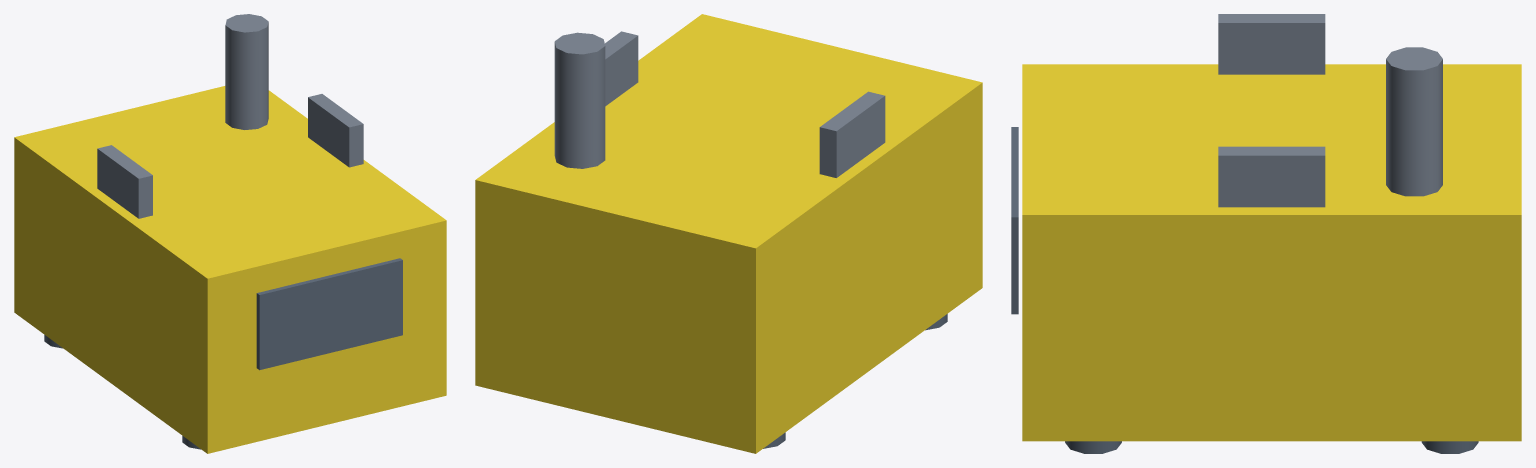
File: generator.glb
The picture shows the model from 3 angles, left to right: view 1: azimuth 30°, elevation 25°; view 2: azimuth 150°, elevation 25°; view 3: azimuth 270°, elevation 25°; orthographic projection. The views are drawn at different scales.
Bounding box in the file's own units: 0.5 × 0.57 × 0.715.
